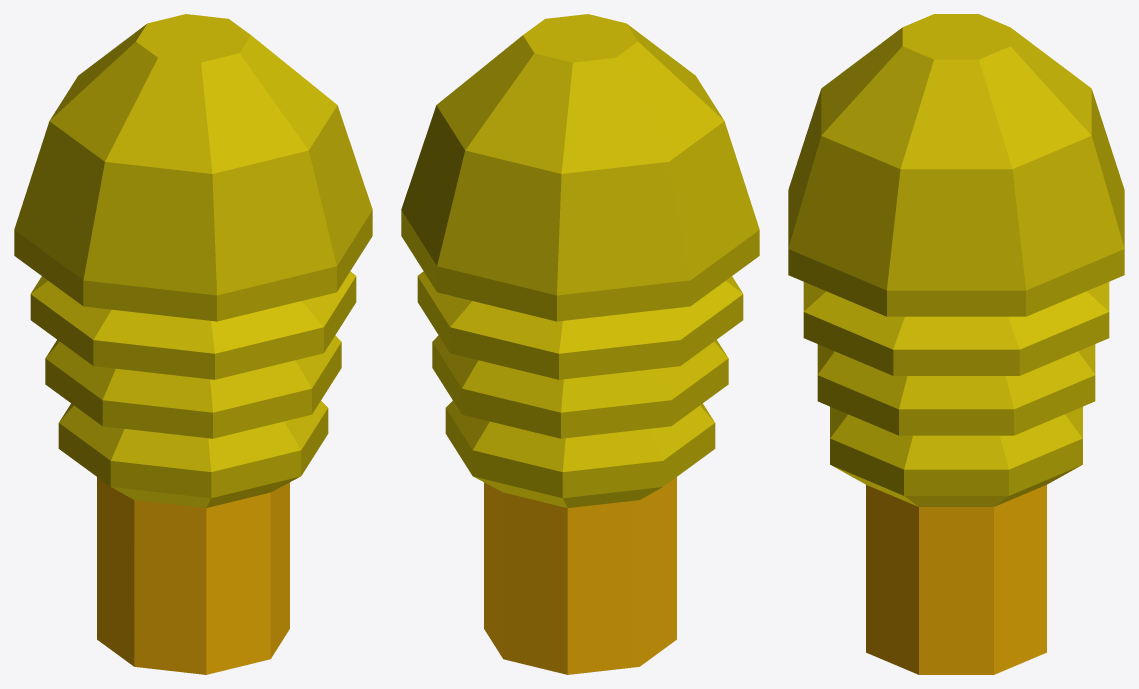
Rendered from mpe_torque_connector.dae.
3 renders of one model, left to right at view 1: azimuth 30°, elevation 25°; view 2: azimuth 150°, elevation 25°; view 3: azimuth 270°, elevation 25°, orthographic.
Visible parts, largest first — view 1: torque_connector; view 2: torque_connector; view 3: torque_connector.
Boxes of the visible parts, x1,y1,x2,y2 form: torque_connector: (14,14,372,674); torque_connector: (401,14,759,674); torque_connector: (788,14,1124,674).
Bounding box in the file's own units: 0.2323 × 0.2323 × 0.4571.
